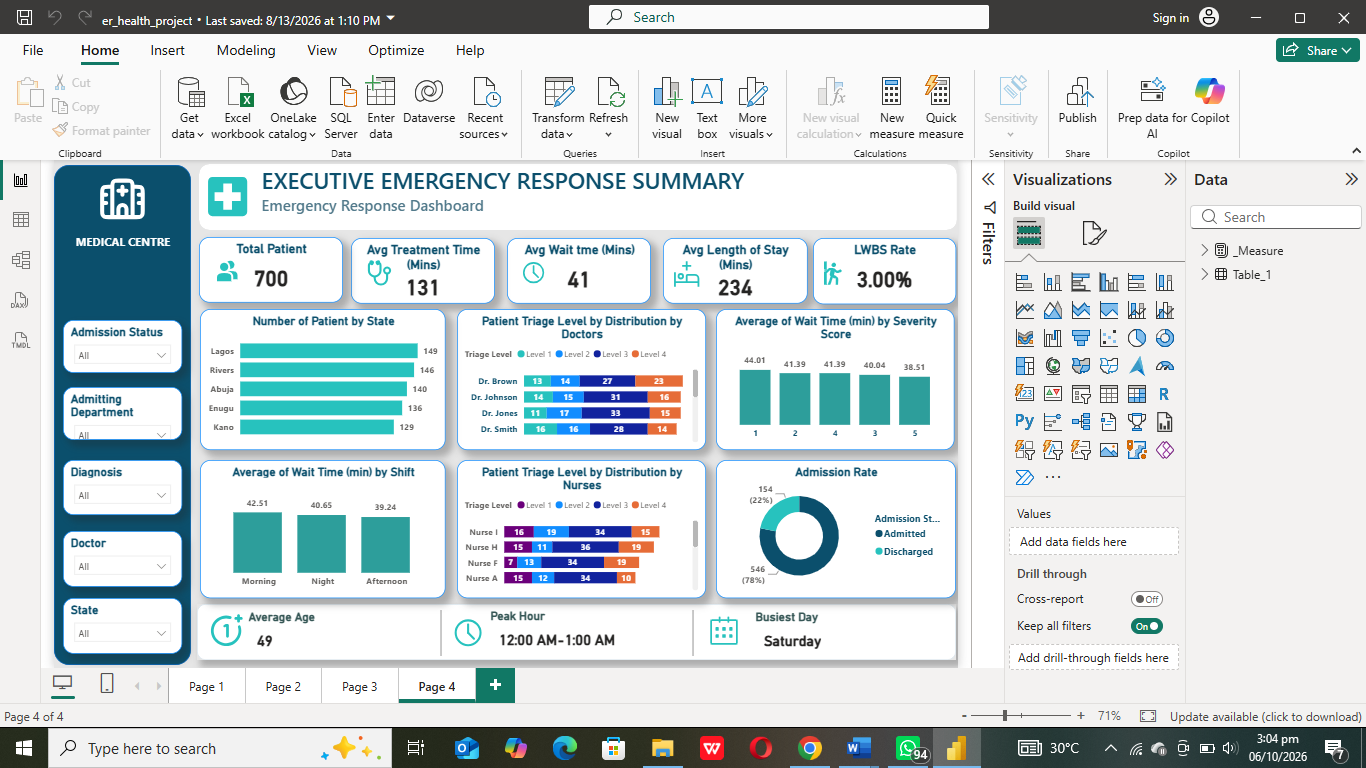

This screenshot's page, from the dashboard's own definition file:
{"tool":"powerbi","page":{"name":"Page 4","canvas":[1280,720],"ordinal":3},"visuals":[{"type":"group","id":"g1","title":"Group 1","box":[0,5.9,1279.5,710.2],"z":0},{"type":"shape","box":[205.1,5.9,1074.3,93.7],"z":0,"group":"g7"},{"type":"shape","box":[0,7.5,194.2,708.7],"z":0,"group":"g1"},{"type":"shape","box":[202.7,629.3,1075.7,79.4],"z":0,"group":"g5"},{"type":"textbox","box":[289.1,1.4,959.5,93.5],"z":1000},{"type":"group","id":"g2","title":"Group 6","box":[204.9,5.9,1074.5,198.2],"z":1000,"group":"g1"},{"type":"slicer","title":"Admission Status","fields":{"Values":["Table_1.Admission Status"]},"box":[12.8,226.8,168.7,75.1],"z":1000},{"type":"shape","box":[541.4,637.8,14.2,65.2],"z":1000,"group":"g6"},{"type":"image","box":[870.2,136,53.9,51],"z":2000,"group":"g1"},{"type":"slicer","title":"Admitting Department","fields":{"Values":["Table_1.Admiting Dept"]},"box":[12.8,321.7,168.7,75.1],"z":2000},{"type":"shape","box":[895.7,637.8,19.9,65.2],"z":2000,"group":"g6"},{"type":"slicer","title":"Doctor","fields":{"Values":["Table_1.Doctor"]},"box":[12.8,525.8,168.7,79.4],"z":3000},{"type":"cardVisual","title":"Average Age","fields":{"Data":["_Measure.Avg AGE"]},"box":[271,637.8,123.8,60.9],"z":3000,"group":"g6"},{"type":"slicer","title":"State","fields":{"Values":["Table_1.State"]},"box":[12.8,620.8,168.7,79.4],"z":4000},{"type":"cardVisual","title":"Peak Hour","fields":{"Data":["_Measure.Peak hour"]},"box":[613.9,636.4,224.8,60.9],"z":4000,"group":"g6"},{"type":"slicer","title":"Diagnosis","fields":{"Values":["Table_1.Diagnosis"]},"box":[12.8,425.2,168.7,78],"z":5000},{"type":"cardVisual","title":"Busiest Day","fields":{"Data":["_Measure.Busiest day"]},"box":[989.6,637.8,259,60.9],"z":5000,"group":"g6"},{"type":"group","id":"g3","title":"Group 3","box":[204.9,109.2,1073,95],"z":5001,"group":"g2"},{"type":"card","title":"Avg Wait tme (Mins)","fields":{"Values":["_Measure.Average_waittime"]},"box":[641.5,110.9,203.9,92.8],"z":6000,"group":"g3"},{"type":"image","box":[656.2,126.1,46.8,66.6],"z":6000},{"type":"card","title":"Avg Length of Stay (Mins)","fields":{"Values":["_Measure.avg length of stay"]},"box":[862.6,110,204.5,93.2],"z":7000,"group":"g3"},{"type":"image","box":[205.5,123.3,80.8,68],"z":7000},{"type":"group","id":"g4","title":"Group 5","box":[1080.3,138.6,45.4,42.5],"z":7000,"group":"g2"},{"type":"image","box":[1080.3,138.6,45.4,42.5],"z":7002,"group":"g4"},{"type":"card","title":"Avg Treatment Time (Mins)","fields":{"Values":["_Measure.Avg treatment time"]},"box":[420.3,110.9,203.9,93.2],"z":8000,"group":"g3"},{"type":"image","box":[430.9,129,60.9,62.4],"z":8000},{"type":"textbox","box":[19.8,99.2,155.9,42.5],"z":9000},{"type":"card","title":"Total Patient","fields":{"Values":["_Measure.Total Patient"]},"box":[204.9,109.2,203.9,93.2],"z":9000,"group":"g3"},{"type":"group","id":"g5","title":"Group 7","box":[202.7,629.3,1075.7,79.4],"z":10000},{"type":"image","box":[558.4,640.6,56.7,59.5],"z":11000},{"type":"image","box":[924.1,642,51,49.6],"z":12000},{"type":"image","box":[42.5,15.6,109.1,79.4],"z":13000},{"type":"card","title":"LWBS Rate","fields":{"Values":["_Measure.LWBS Rate"]},"box":[1075.2,110.4,202.7,93.5],"z":13000,"group":"g3"},{"type":"group","id":"g6","title":"Group 8","box":[271,636.4,977.6,66.6],"z":13005,"group":"g5"},{"type":"image","box":[204.1,9.9,83.6,83.6],"z":14000},{"type":"image","box":[215.4,637.8,56.7,59.5],"z":15000},{"type":"group","id":"g7","title":"Group 2","box":[205.1,5.9,1074.3,93.7],"z":15001,"group":"g2"},{"type":"barChart","title":"Patient Triage Level by Distribution by Doctors","fields":{"Category":["Table_1.Doctor"],"Y":["CountNonNull(Table_1.Triage Level)"],"Series":["Table_1.Triage Level"]},"box":[571.7,211.7,352.8,200.2],"z":16000},{"type":"columnChart","fields":{"Category":["Table_1.Severity Score"],"Y":["Avg(Table_1.Wait Time (min))"]},"box":[938.9,211.7,338.4,200.2],"z":17000},{"type":"clusteredBarChart","title":"Number of Patient by State","fields":{"Category":["Table_1.State"],"Y":["CountNonNull(Table_1.Patient ID)"]},"box":[207.4,211.7,348.5,200.2],"z":18000},{"type":"columnChart","fields":{"Y":["Avg(Table_1.Wait Time (min))"],"Category":["Table_1.Shift"]},"box":[207.4,424.8,348.5,195.8],"z":19000},{"type":"barChart","title":"Patient Triage Level by Distribution by Nurses","fields":{"Category":["Table_1.Nurse Assigned"],"Y":["CountNonNull(Table_1.Triage Level)"],"Series":["Table_1.Triage Level"]},"box":[571.7,424.8,352.8,195.8],"z":20000},{"type":"donutChart","title":"Admission Rate","fields":{"Category":["Table_1.Admission Status"],"Y":["CountNonNull(Table_1.Admission Status)"]},"box":[938.9,424.8,339.8,195.8],"z":21000}]}

Visuals, with their boxes on the page's 1280x720 design canvas (x1, y1, x2, y2). These are canvas units, not pixel positions in the 1366x768 screenshot, which may show the page scaled, cropped or inside an application window:
"Group 1" group: Rect(0, 6, 1280, 716)
shape: Rect(205, 6, 1279, 100)
shape: Rect(0, 8, 194, 716)
shape: Rect(203, 629, 1278, 709)
textbox: Rect(289, 1, 1249, 95)
"Group 6" group: Rect(205, 6, 1279, 204)
"Admission Status" slicer: Rect(13, 227, 182, 302)
shape: Rect(541, 638, 556, 703)
image: Rect(870, 136, 924, 187)
"Admitting Department" slicer: Rect(13, 322, 182, 397)
shape: Rect(896, 638, 916, 703)
"Doctor" slicer: Rect(13, 526, 182, 605)
"Average Age" cardVisual: Rect(271, 638, 395, 699)
"State" slicer: Rect(13, 621, 182, 700)
"Peak Hour" cardVisual: Rect(614, 636, 839, 697)
"Diagnosis" slicer: Rect(13, 425, 182, 503)
"Busiest Day" cardVisual: Rect(990, 638, 1249, 699)
"Group 3" group: Rect(205, 109, 1278, 204)
"Avg Wait tme (Mins)" card: Rect(642, 111, 845, 204)
image: Rect(656, 126, 703, 193)
"Avg Length of Stay (Mins)" card: Rect(863, 110, 1067, 203)
image: Rect(206, 123, 286, 191)
"Group 5" group: Rect(1080, 139, 1126, 181)
image: Rect(1080, 139, 1126, 181)
"Avg Treatment Time (Mins)" card: Rect(420, 111, 624, 204)
image: Rect(431, 129, 492, 191)
textbox: Rect(20, 99, 176, 142)
"Total Patient" card: Rect(205, 109, 409, 202)
"Group 7" group: Rect(203, 629, 1278, 709)
image: Rect(558, 641, 615, 700)
image: Rect(924, 642, 975, 692)
image: Rect(42, 16, 152, 95)
"LWBS Rate" card: Rect(1075, 110, 1278, 204)
"Group 8" group: Rect(271, 636, 1249, 703)
image: Rect(204, 10, 288, 94)
image: Rect(215, 638, 272, 697)
"Group 2" group: Rect(205, 6, 1279, 100)
"Patient Triage Level by Distribution by Doctors" barChart: Rect(572, 212, 924, 412)
columnChart - Table_1.Severity Score x Avg(Table_1.Wait Time (min)): Rect(939, 212, 1277, 412)
"Number of Patient by State" clusteredBarChart: Rect(207, 212, 556, 412)
columnChart - Avg(Table_1.Wait Time (min)) x Table_1.Shift: Rect(207, 425, 556, 621)
"Patient Triage Level by Distribution by Nurses" barChart: Rect(572, 425, 924, 621)
"Admission Rate" donutChart: Rect(939, 425, 1279, 621)
